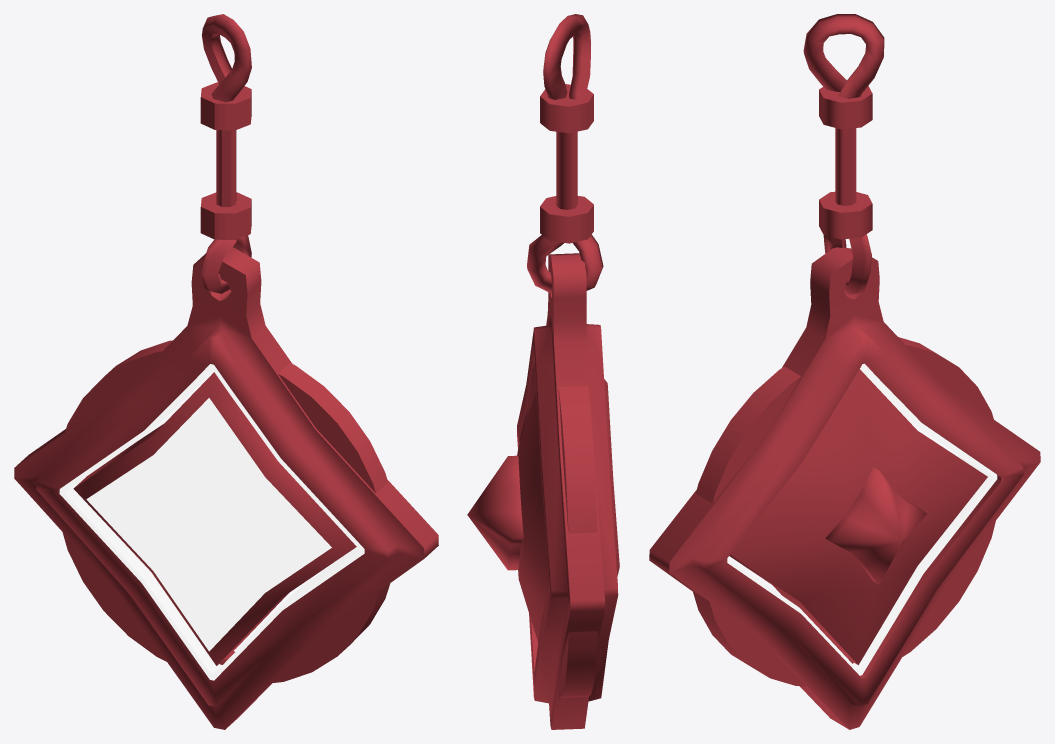
The model's file is immortal.glb.
3 views of the same model, side by side, from view 1: azimuth 30°, elevation 25°; view 2: azimuth 150°, elevation 25°; view 3: azimuth 270°, elevation 25° (orthographic).
Visible parts, largest first — view 1: GN_Buddies_RankEP8_Immortal_Skelmesh.mo.001; view 2: GN_Buddies_RankEP8_Immortal_Skelmesh.mo.001; view 3: GN_Buddies_RankEP8_Immortal_Skelmesh.mo.001.
Boxes of the visible parts, <box> form: GN_Buddies_RankEP8_Immortal_Skelmesh.mo.001: <box>14,14,438,729</box>; GN_Buddies_RankEP8_Immortal_Skelmesh.mo.001: <box>467,14,620,729</box>; GN_Buddies_RankEP8_Immortal_Skelmesh.mo.001: <box>649,14,1040,729</box>.
Size of the model in its own units: 0.019 by 0.0514 by 0.0257.
